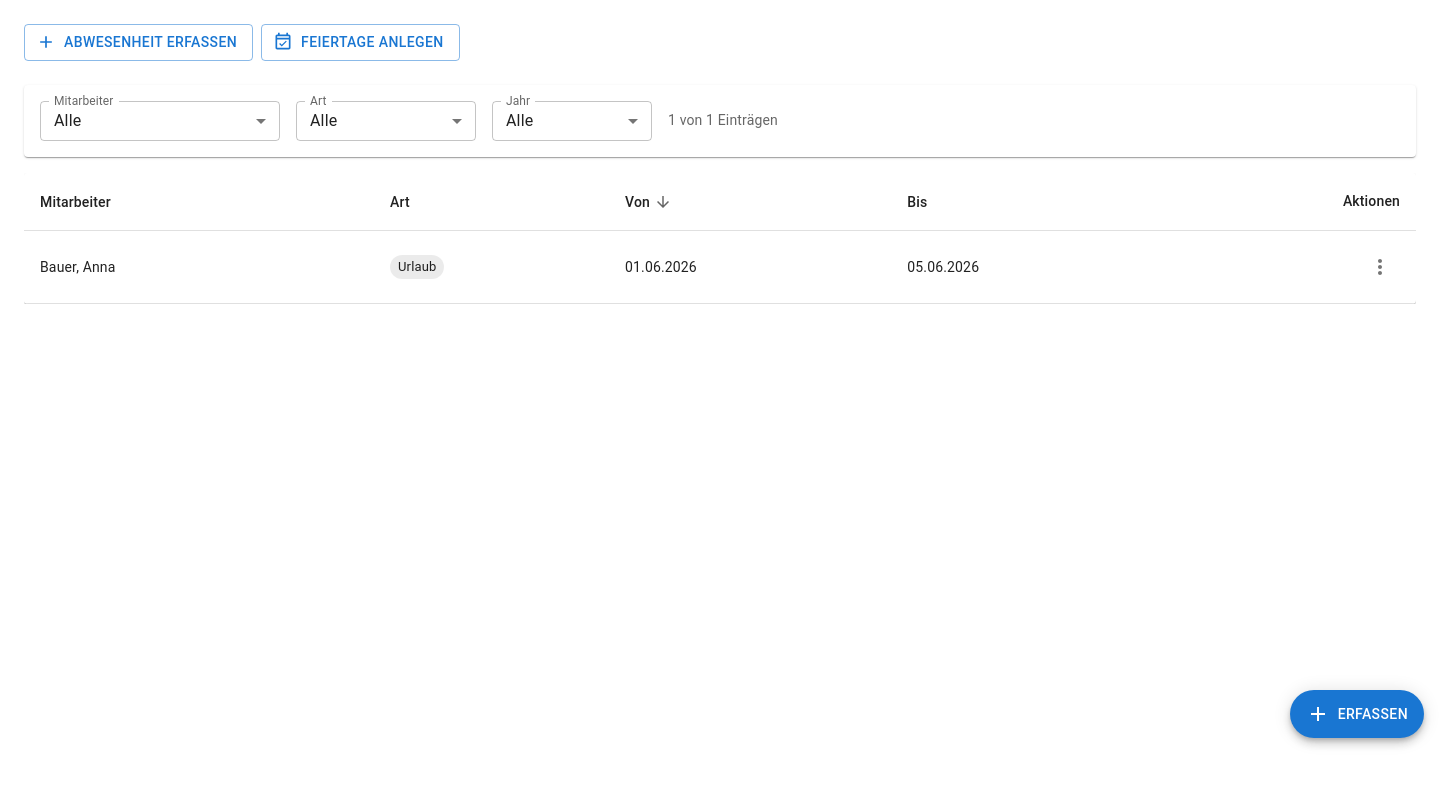
Test: AbsencesView › with a branch selected › reports a delete failure via notify.report with the pinned context
This screenshot has width=1440, height=810.
Expected: the text "Urlaub" is shown, [398,258,436,274]
Click the button named "Weitere Aktionen für Bauer, Anna" at {"x": 1380, "y": 267}, box [1360,247,1400,287]
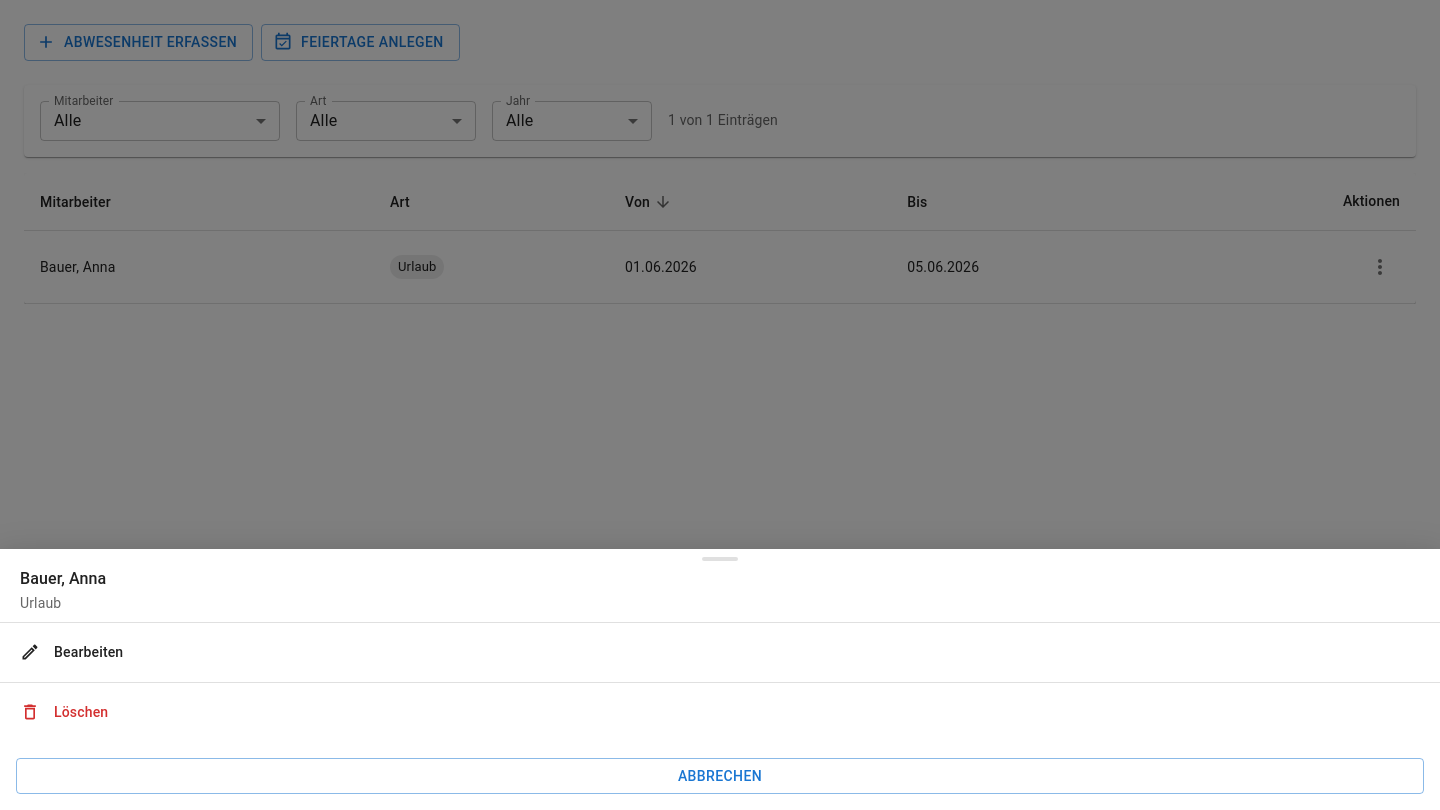
Click the button "Löschen" at {"x": 81, "y": 712}, box [0,682,1439,742]
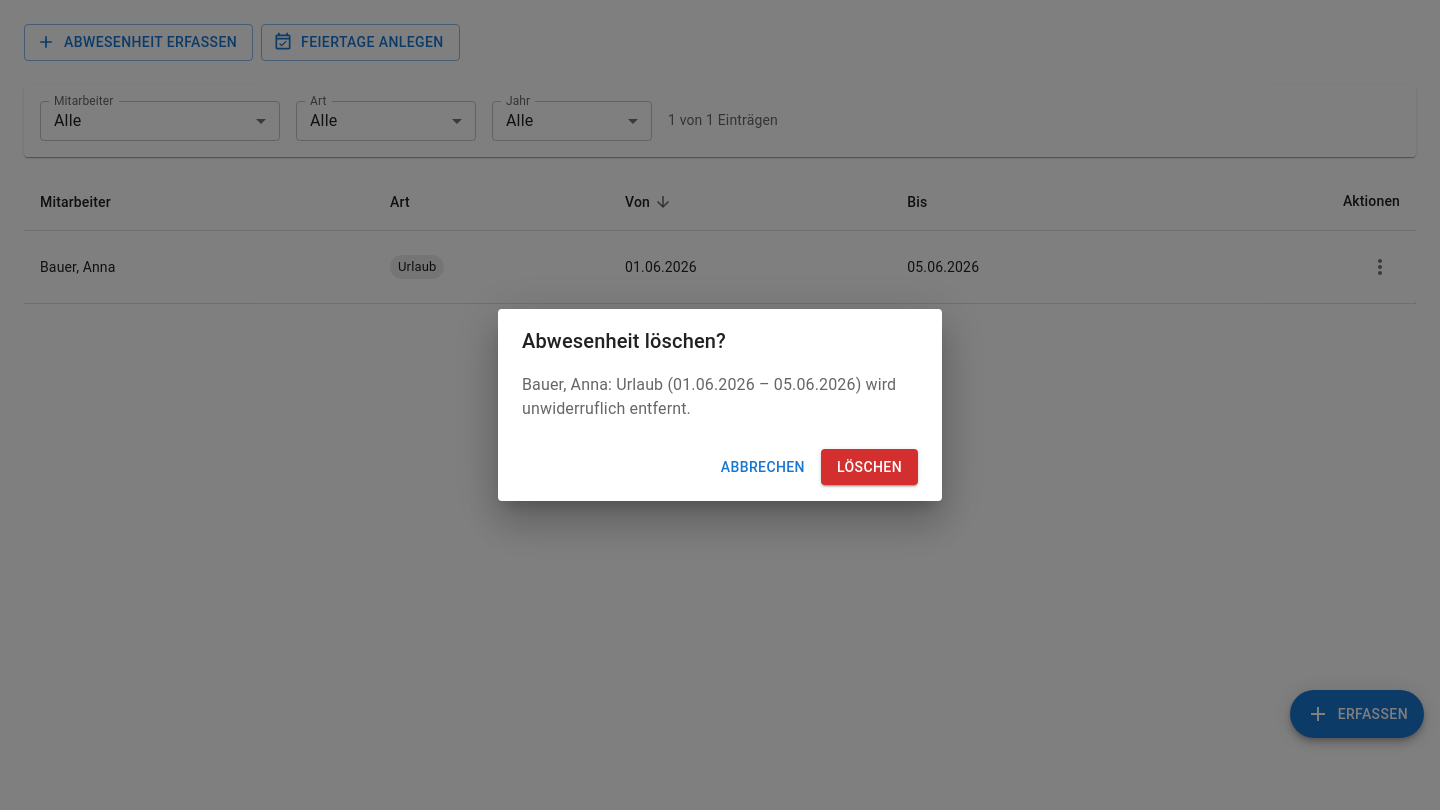
Click the button "Löschen" at {"x": 870, "y": 467}, box [821,449,918,485]
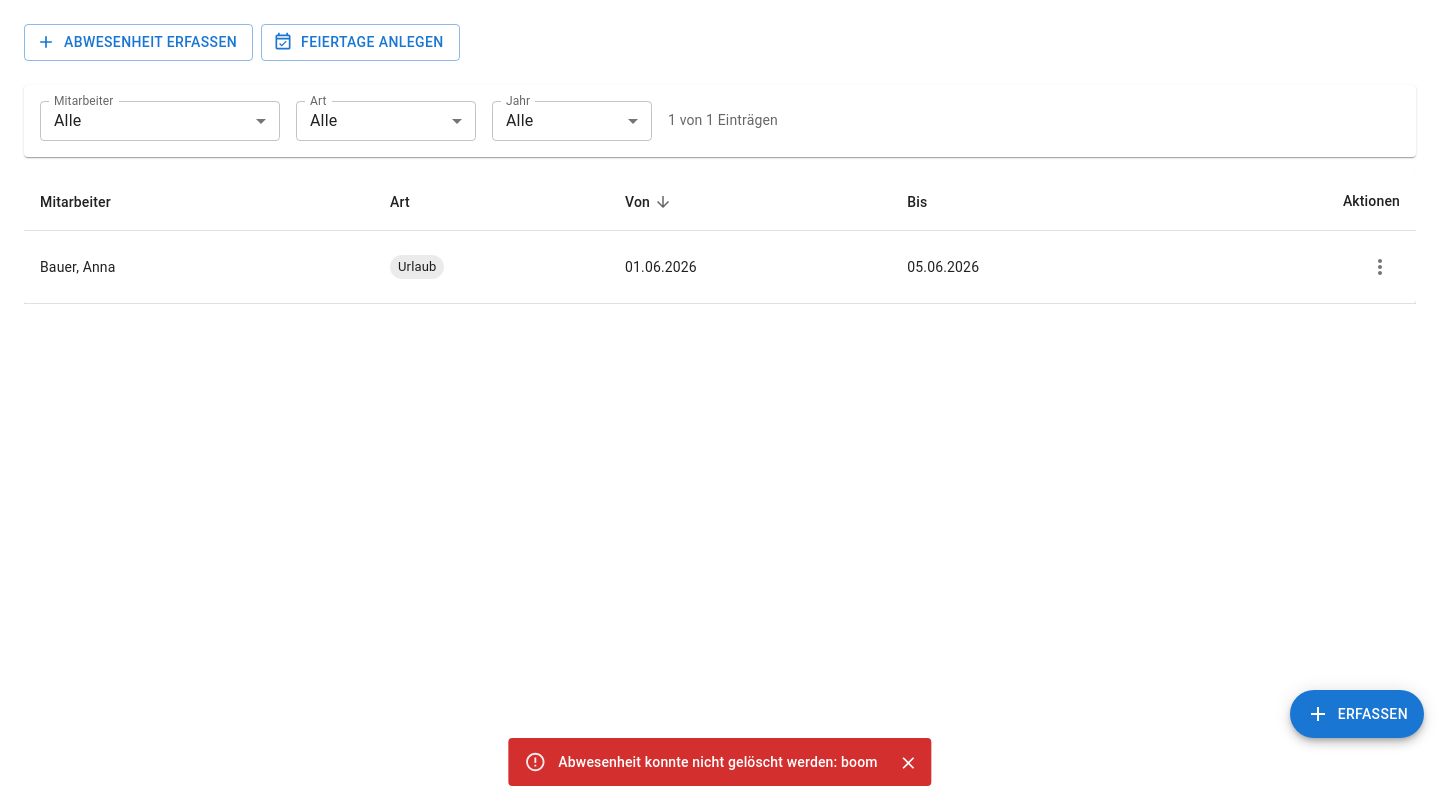
Expected: the text "Abwesenheit konnte nicht gelöscht werden: boom" is shown, [558,754,878,770]
Expected: the dialog is gone
